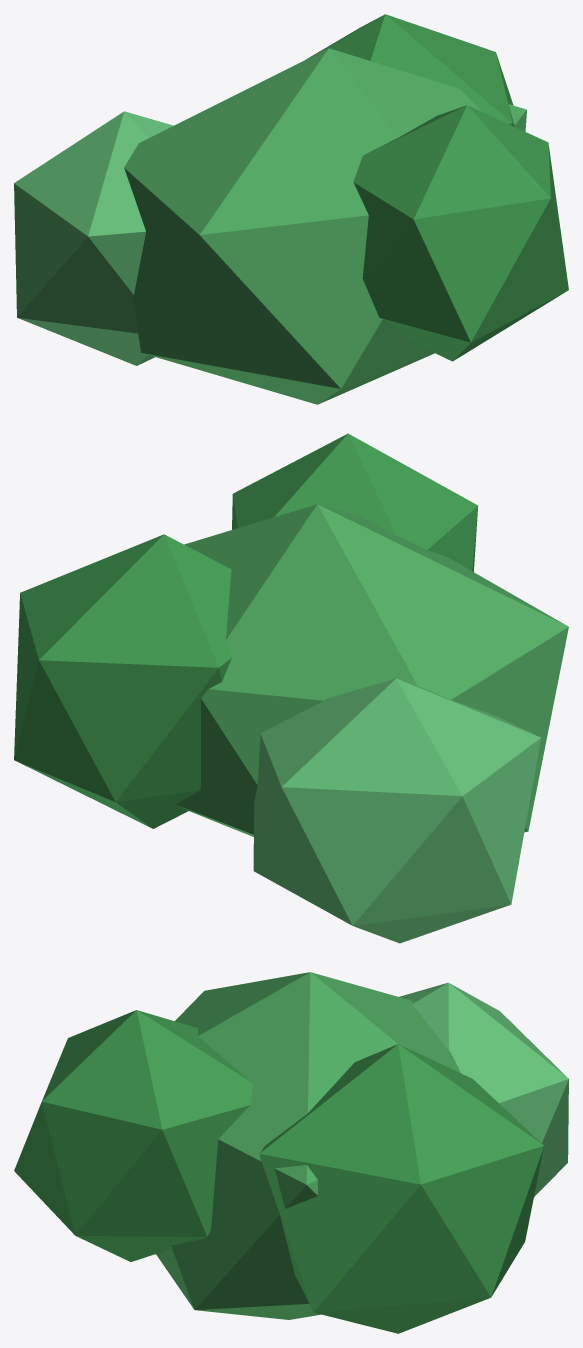
Rendered from bush.glb.
3 renders of one model, top to bottom at view 1: azimuth 30°, elevation 25°; view 2: azimuth 150°, elevation 25°; view 3: azimuth 270°, elevation 25°, orthographic. The views are drawn at different scales.
Parts seen in each view (by area): view 1: BushMain, BushCluster_2, BushCluster_1, BushCluster_0; view 2: BushMain, BushCluster_1, BushCluster_0, BushCluster_2; view 3: BushCluster_0, BushCluster_2, BushMain, BushCluster_1.
Boxes of the visible parts, x1,y1,x2,y2 form: BushMain: (124, 48, 526, 404); BushCluster_2: (353, 105, 568, 361); BushCluster_1: (14, 111, 173, 365); BushCluster_0: (306, 14, 514, 126); BushMain: (176, 504, 568, 836); BushCluster_1: (253, 678, 540, 943); BushCluster_0: (14, 534, 231, 828); BushCluster_2: (232, 433, 477, 571); BushCluster_0: (259, 1044, 543, 1333); BushCluster_2: (14, 1010, 252, 1261); BushMain: (156, 972, 460, 1319); BushCluster_1: (399, 982, 568, 1196).
Bounding box in the file's own units: 0.2145 × 0.1512 × 0.2119.
